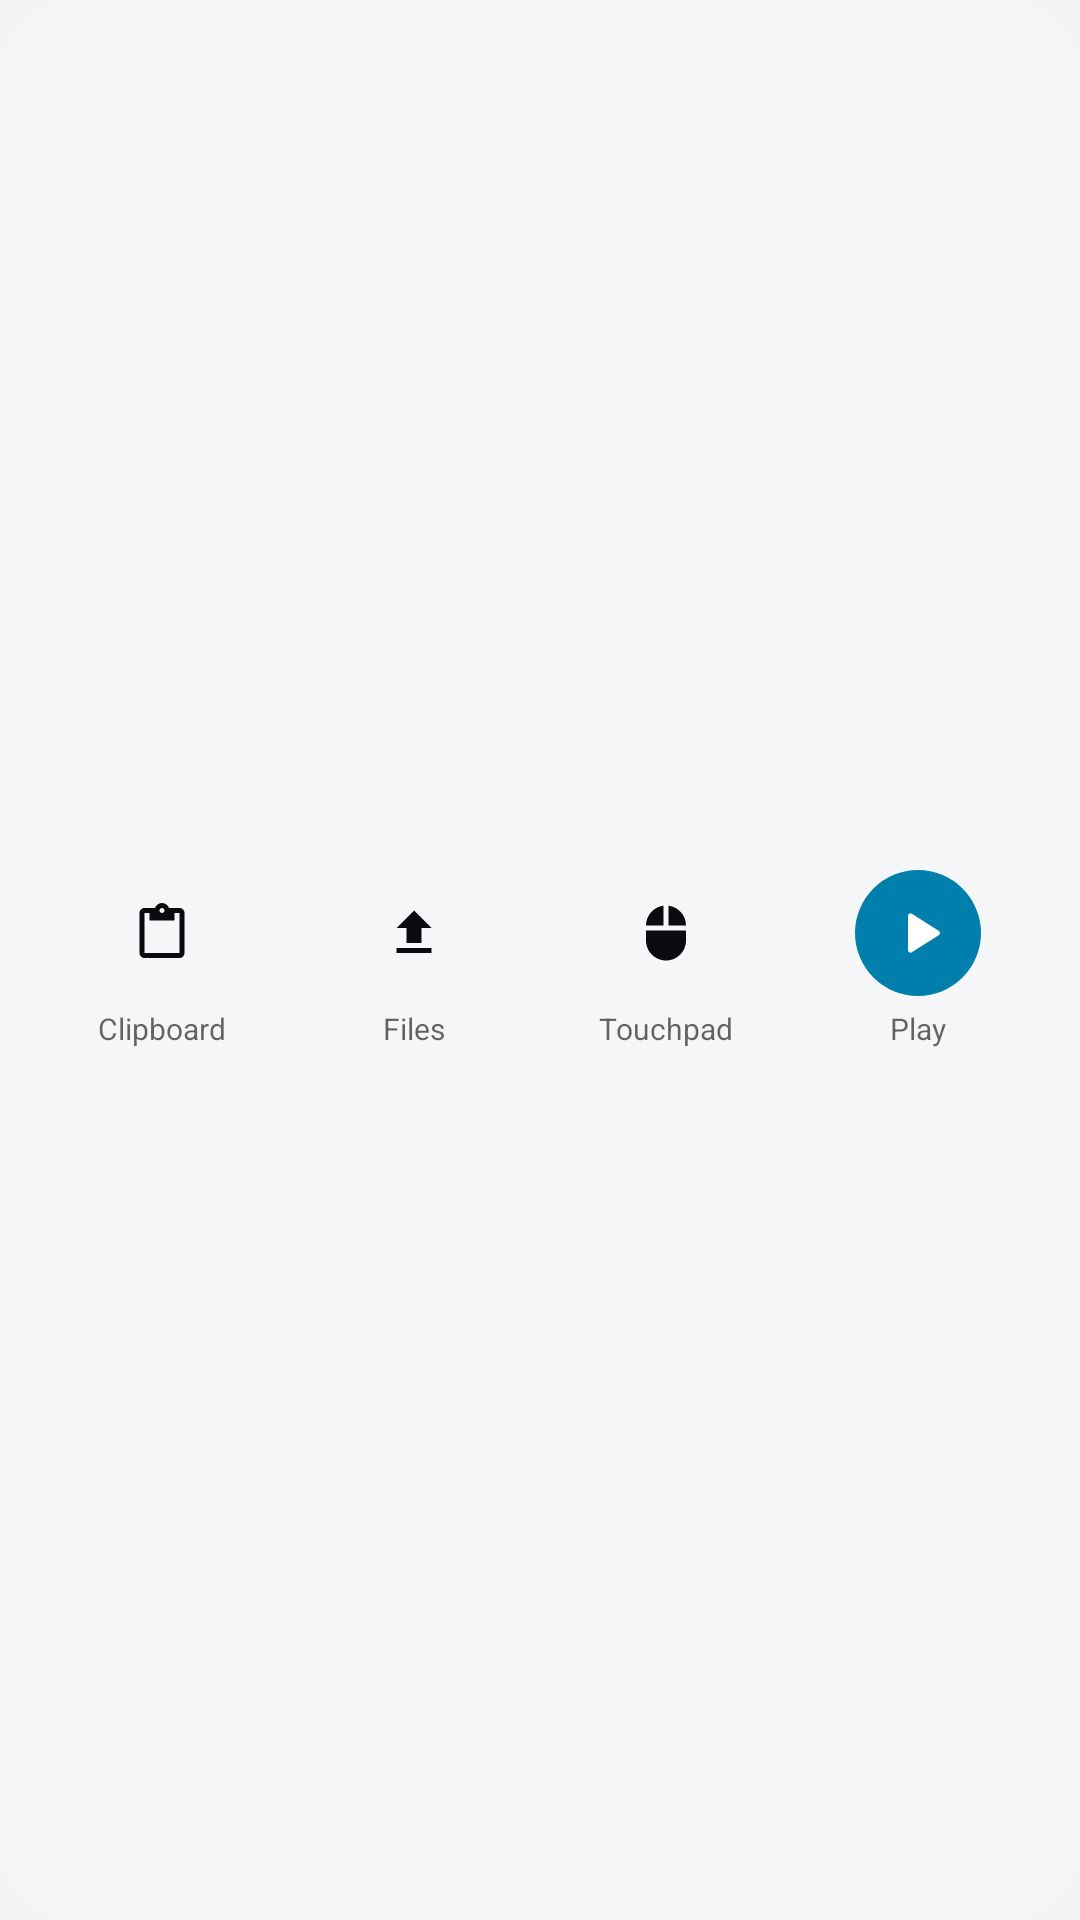

Screen size 1080x1920. Icon name, then its box in pixels as (x1, y1, x2, y2):
mouse: (646, 905, 686, 961)
upload: (396, 910, 432, 953)
